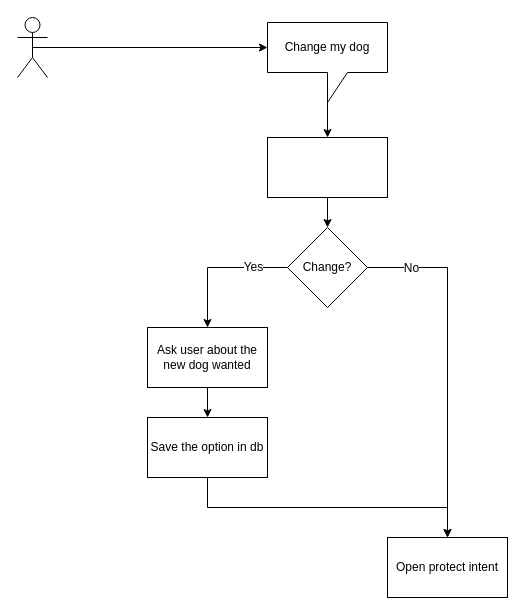
Some shapes in this 525 by 615 pixel diagram are drawn without their labels. The shapes that lost their labels are listed below. From the top down, each one's centre as x and y in pixels, then its label:
At pixel 32 47: "Actor".
At pixel 327 167: "Confirm current dog".
